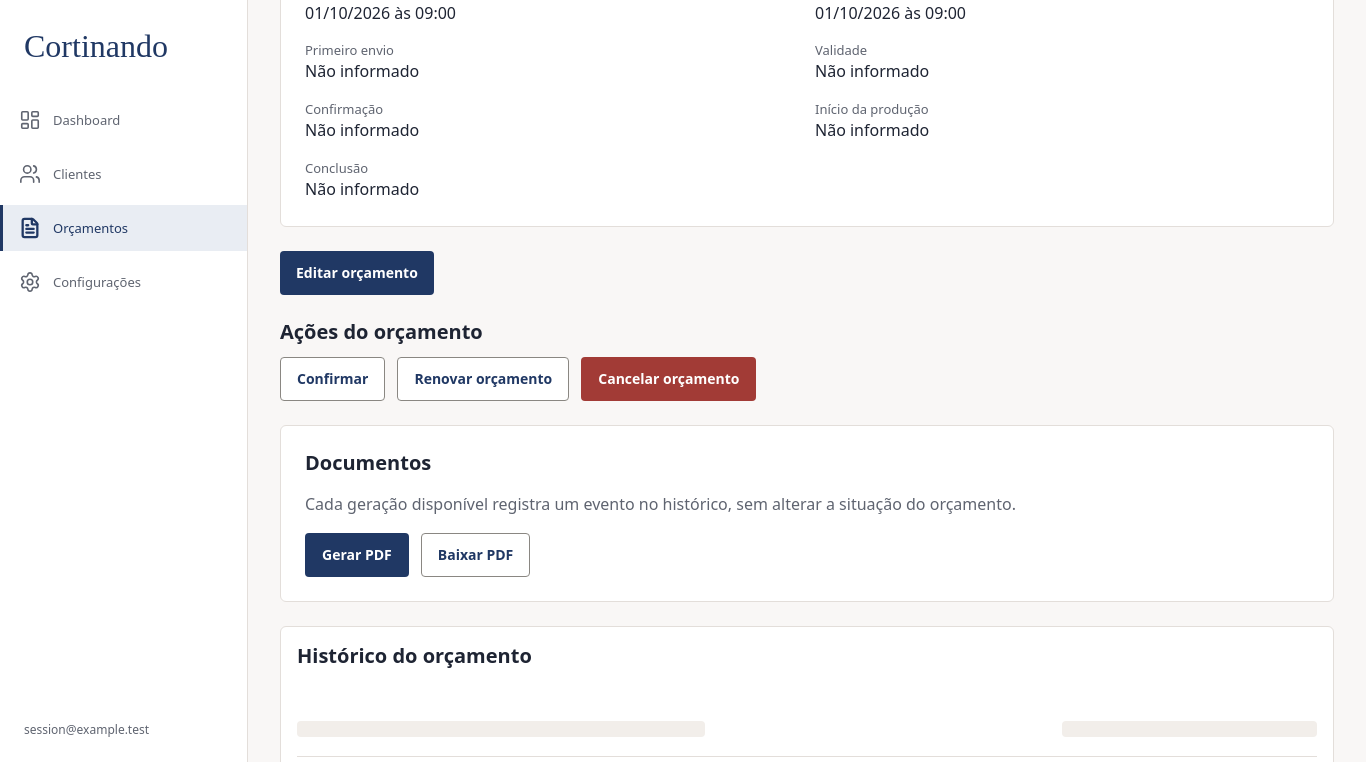
Test: SENT Confirmar requires confirmation and replaces detail from its dedicated endpoint
(page scrolled)
Click the button "Confirmar". click: (333, 379)
box: [280,357,385,401]
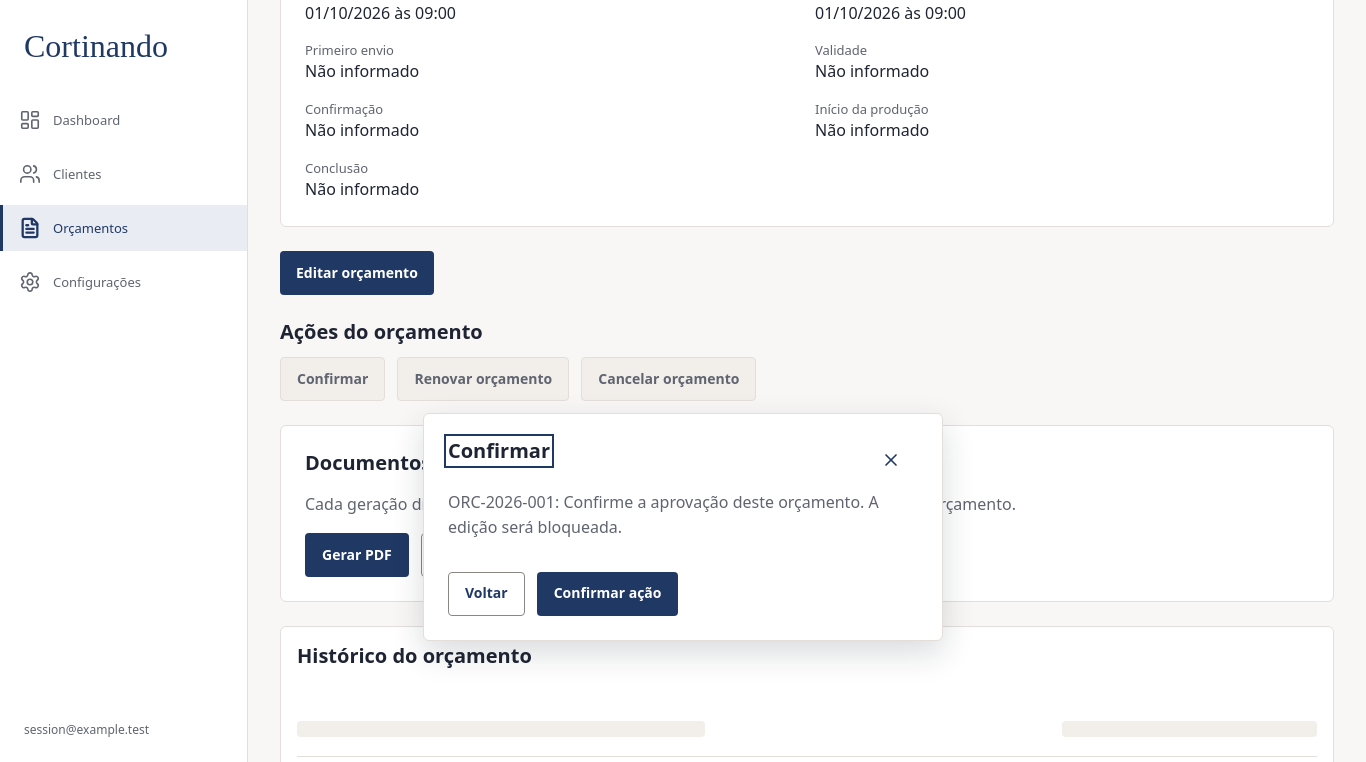
Check: the dialog shows "ORC-2026-001", box [448,491,879,538]
Click the button "Confirmar ação". click: (608, 594)
box: [537,572,678,616]
(page scrolled)
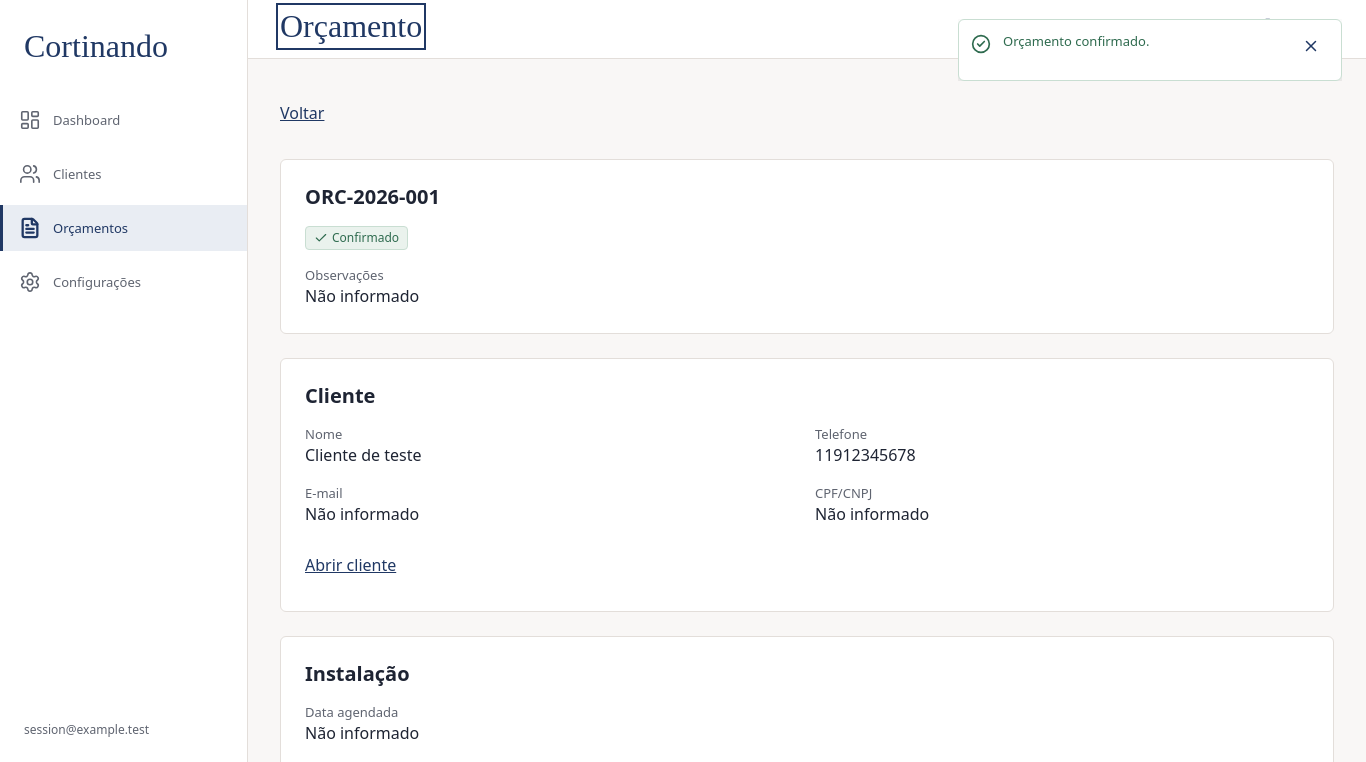
Check: the dialog is gone
Check: the element named "Resumo do orçamento" shows "Confirmado", box [332,229,399,246]
